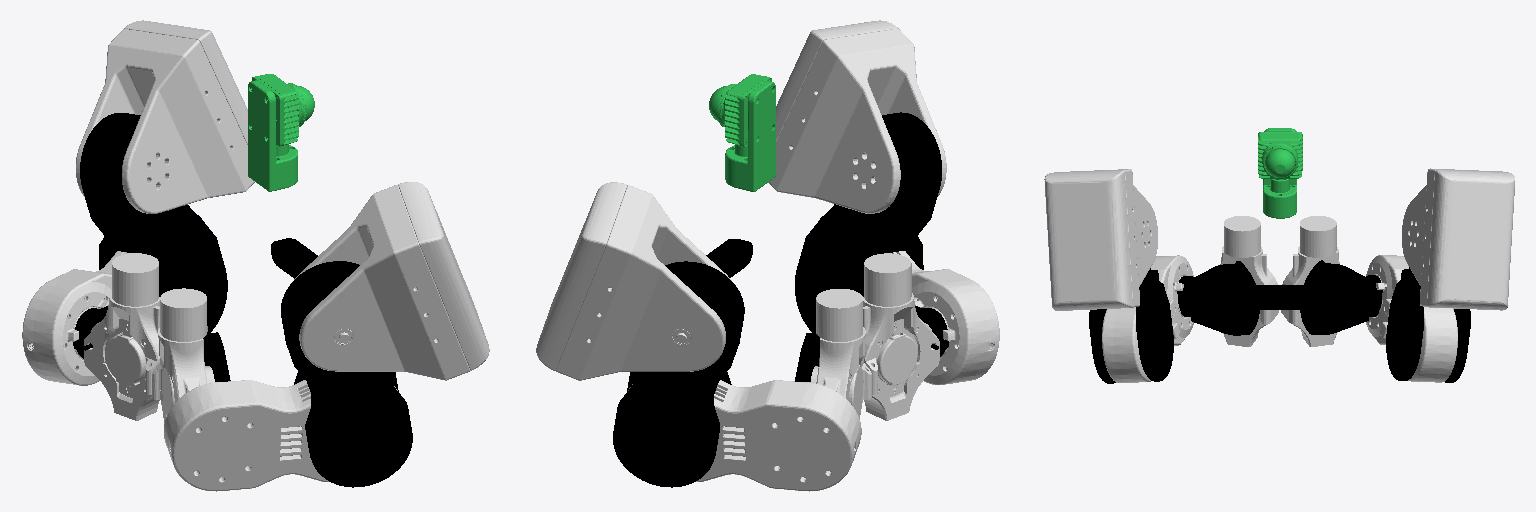
robot.urdf — YSXSZ:
<?xml version="1.0" encoding="utf-8"?>
<!-- This URDF was automatically created by SolidWorks to URDF Exporter! Originally created by Stephen Brawner (brawner@gmail.com) 
     Commit Version: 1.6.1-13-g25da24a-dirty  Build Version: 1.6.9564.31071
     For more information, please see http://wiki.ros.org/sw_urdf_exporter -->
<robot
  name="YSXSZ">
  <material name="green">
        <color rgba="0.25 0.8 0.4 1"/>
  </material>
  <material name="blue">
        <color rgba="0.1 0.4 0.8 1"/>
  </material>
  <material name="white">
        <color rgba="0.9 0.9 0.9 1"/>
  </material>
   <material name="black">
        <color rgba="0.0 0.0 0.0 1"/>
  </material>
  <link
    name="base_link">
    <inertial>
      <origin
        xyz="-0.01158260 0.00000597 0.14631222"
        rpy="0 0 0" />
      <mass
        value="6.40085835" />
      <inertia
        ixx="0.04967319"
        ixy="-0.00000038"
        ixz="-0.01935371"
        iyy="0.13479794"
        iyz="-0.00002794"
        izz="0.11744051" />
    </inertial>
    <visual>
      <origin
        xyz="0 0 0"
        rpy="0 0 0" />
      <geometry>
        <mesh
          filename="../meshes/base_link.STL" />
      </geometry>
      <material
        name="blue">
        <color
          rgba="0.1 0.4 0.8 1" />
      </material>
    </visual>
    <collision>
      <origin
        xyz="0 0 0"
        rpy="0 0 0" />
      <geometry>
        <mesh
          filename="../meshes/base_link.STL" />
      </geometry>
    </collision>
  </link>
  <link
    name="hip_yaw_l">
    <inertial>
      <origin
        xyz="-0.000221171408633571 0.000835436588466555 0.0255560756676425"
        rpy="0 0 0" />
      <mass
        value="0.924966309836361" />
      <inertia
        ixx="0.00251932"
        ixy="0.00009795"
        ixz="0.00000053"
        iyy="0.00224984"
        iyz="0.00002942"
        izz="0.00059590" />
    </inertial>
    <visual>
      <origin
        xyz="0 0 0"
        rpy="0 0 0" />
      <geometry>
        <mesh
          filename="../meshes/left1.STL" />
      </geometry>
      <material
        name="white">
        <color
          rgba="0.9 0.9 0.9 1" />
      </material>
    </visual>
    <!-- <collision>
      <origin
        xyz="0 0 0"
        rpy="0 0 0" />
      <geometry>
        <mesh
          filename="../meshes/left1.STL" />
      </geometry>
    </collision> -->
  </link>
  <joint
    name="hip_yaw_l"
    type="revolute">
    <origin
      xyz="0 0.055 0.0861"
      rpy="0 0 0" />
    <parent
      link="base_link" />
    <child
      link="hip_yaw_l" />
    <axis
      xyz="0 0 1" />
    <dynamics friction="0.01"/>
    <limit
      lower="-0.4537856055"
      upper="0"
      effort="20"
      velocity="30" />
      <!-- test10 -->
      <!-- effort="30" -->
  </joint>
  <link
    name="hip_roll_l">
    <inertial>
      <origin
        xyz="-0.0274911987178704 0.0197664676440548 -0.00512348096800992"
        rpy="0 0 0" />
      <mass
        value="0.336643013680241" />
      <inertia
        ixx="0.00051358"
        ixy="0.00018525"
        ixz="-0.00003652"
        iyy="0.00027085"
        iyz="0.00006460"
        izz="0.00055789" />
    </inertial>
    <visual>
      <origin
        xyz="0 0 0"
        rpy="0 0 0" />
      <geometry>
        <mesh
          filename="../meshes/left2.STL" />
      </geometry>
      <material
        name="black">
        <color
          rgba="0.0 0.0 0.0 1" />
      </material>
    </visual>
    <!-- <collision>
      <origin
        xyz="0 0 0"
        rpy="0 0 0" />
      <geometry>
        <mesh
          filename="../meshes/left2.STL" />
      </geometry>
    </collision> -->
  </link>
  <joint
    name="hip_roll_l"
    type="revolute">
    <origin
      xyz="0.021165 0.063656 0.0021"
      rpy="0 0 0" />
    <parent
      link="hip_yaw_l" />
    <child
      link="hip_roll_l" />
    <axis
      xyz="0.95106 0.30902 0" />
    <dynamics friction="0.07"/>
    <limit
      lower="0"
      upper="0.3714060648"
      effort="20"
      velocity="10" />
      <!-- effort="60" -->
  </joint>
  <link
    name="hip_pitch_l">
    <inertial>
      <origin
        xyz="0.07571300 0.02157796 0.00060929"
        rpy="0 0 0" />
      <mass
        value="1.08615270" />
      <inertia
        ixx="0.00190228"
        ixy="-0.00195647"
        ixz="0.00007908"
        iyy="0.00732076"
        iyz="-0.00013307"
        izz="0.00717915" />
    </inertial>
    <visual>
      <origin
        xyz="0 0 0"
        rpy="0 0 0" />
      <geometry>
        <mesh
          filename="../meshes/left3.STL" />
      </geometry>
      <material
        name="white">
        <color
          rgba="0.9 0.9 0.9 1" />
      </material>
    </visual>
    <!-- <collision>
      <origin
        xyz="0 0 0"
        rpy="0 0 0" />
      <geometry>
        <mesh
          filename="../meshes/left3.STL" />
      </geometry>
    </collision> -->
  </link>
  <joint
    name="hip_pitch_l"
    type="revolute">
    <origin
      xyz="-0.040106 0.045768 -0.010506"
      rpy="0 0 0" />
    <parent
      link="hip_roll_l" />
    <child
      link="hip_pitch_l" />
    <axis
      xyz="-0.3037 0.9347 -0.18464" />
    <dynamics friction="0.03"/>
    <limit
      lower="0"
      upper="3.094395102"
      effort="20"
      velocity="30" />
      <!-- effort="30" -->
  </joint>
  <link
    name="knee_pitch_l">
    <inertial>
      <origin
        xyz="-0.01759815 0.00753399 0.08328469"
        rpy="0 0 0" />
      <mass
        value="0.96552306" />
      <inertia
        ixx="0.00591962"
        ixy="0.00003208"
        ixz="0.00106872"
        iyy="0.00633182"
        iyz="-0.00059524"
        izz="0.00141719" />
    </inertial>
    <visual>
      <origin
        xyz="0 0 0"
        rpy="0 0 0" />
      <geometry>
        <mesh
          filename="../meshes/left4.STL" />
      </geometry>
      <material
        name="black">
        <color
          rgba="0.0 0.0 0.0 1" />
      </material>
    </visual>
    <!-- <collision>
      <origin
        xyz="0 0 0"
        rpy="0 0 0" />
      <geometry>
        <mesh
          filename="../meshes/left4.STL" />
      </geometry>
    </collision> -->
  </link>
  <joint
    name="knee_pitch_l"
    type="revolute">
    <origin
      xyz="0.15027 0.048825 0"
      rpy="0 0 0" />
    <parent
      link="hip_pitch_l" />
    <child
      link="knee_pitch_l" />
    <axis
      xyz="0.3037 -0.9347 0.18464" />
    <dynamics friction="0.01"/>
    <limit
      lower="-3.490658504"
      upper="0"
      effort="20"
      velocity="30" />
      <!-- effort="30" -->
  </joint>
  <link
    name="ankle_pitch_l">
    <inertial>
      <origin
        xyz="0.06647366 0.02592624 0.02560674"
        rpy="0 0 0" />
      <mass
        value="1.15884521" />
      <inertia
        ixx="0.0041618"
        ixy="-0.00065593"
        ixz="-0.00005476"
        iyy="0.00566982"
        iyz="-0.00035079"
        izz="0.00439805" />
    </inertial>
    <visual>
      <origin
        xyz="0 0 0"
        rpy="0 0 0" />
      <geometry>
        <mesh
          filename="../meshes/left5.STL" />
      </geometry>
      <material
        name="white">
        <color
          rgba="0.9 0.9 0.9 1" />
      </material>
    </visual>
    <collision>
      <origin
        xyz="0 0 0"
        rpy="0 0 0" />
      <geometry>
        <mesh
          filename="../meshes/left5.STL" />
      </geometry>
    </collision>
  </link>
  <joint
    name="ankle_pitch_l"
    type="revolute">
    <origin
      xyz="-0.034971 0.018845 0.15292"
      rpy="0 0 0" />
    <parent
      link="knee_pitch_l" />
    <child
      link="ankle_pitch_l" />
    <axis
      xyz="-0.3037 0.9347 -0.18464" />
    <dynamics friction="0.01"/>
    <limit
      lower="-2.617993878"
      upper="0"
      effort="20"
      velocity="30" />
      <!-- effort="30" -->
  </joint>
  <link
    name="hip_yaw_r">
    <inertial>
      <origin
        xyz="0.00091922 -0.00120453 0.02555592"
        rpy="0 0 0" />
      <mass
        value="0.92496577" />
      <inertia
        ixx="0.00251891"
        ixy="-0.00009831"
        ixz="0.00002528"
        iyy="0.00225164"
        iyz="-0.00003738"
        izz="0.00059728" />
    </inertial>
    <visual>
      <origin
        xyz="0 0 0"
        rpy="0 0 0" />
      <geometry>
        <mesh
          filename="../meshes/right1.STL" />
      </geometry>
      <material
        name="white">
        <color
          rgba="0.9 0.9 0.9 1" />
      </material>
    </visual>
    <!-- <collision>
      <origin
        xyz="0 0 0"
        rpy="0 0 0" />
      <geometry>
        <mesh
          filename="../meshes/right1.STL" />
      </geometry>
    </collision> -->
  </link>
  <joint
    name="hip_yaw_r"
    type="revolute">
    <origin
      xyz="0 -0.055 0.0861"
      rpy="0 0 0" />
    <parent
      link="base_link" />
    <child
      link="hip_yaw_r" />
    <axis
      xyz="0 0 1" />
    <limit
      lower="0"
      upper="0.4537856055"
      effort="20"
      velocity="30" />
      <!-- effort="30" -->
  </joint>
  <link
    name="hip_roll_r">
    <inertial>
      <origin
        xyz="-0.0274911769591385 -0.0197664945674842 -0.00512347401957491"
        rpy="0 0 0" />
      <mass
        value="0.33664269" />
      <inertia
        ixx="0.00051357"
        ixy="-0.00018525"
        ixz="-0.00003652"
        iyy="0.00027085"
        iyz="-0.00006460"
        izz="0.00055789" />
    </inertial>
    <visual>
      <origin
        xyz="0 0 0"
        rpy="0 0 0" />
      <geometry>
        <mesh
          filename="../meshes/right2.STL" />
      </geometry>
      <material
        name="black">
        <color
          rgba="0.0 0.0 0.0 1" />
      </material>
    </visual>
    <!-- <collision>
      <origin
        xyz="0 0 0"
        rpy="0 0 0" />
      <geometry>
        <mesh
          filename="../meshes/right2.STL" />
      </geometry>
    </collision> -->
  </link>
  <joint
    name="hip_roll_r"
    type="revolute">
    <origin
      xyz="0.023067 -0.064274 0.0021"
      rpy="0 0 0" />
    <parent
      link="hip_yaw_r" />
    <child
      link="hip_roll_r" />
    <axis
      xyz="0.95106 -0.30902 0" />
    <dynamics friction="0.07"/>
    <limit
      lower="-0.3714060648"
      upper="0"
      effort="20"
      velocity="10" />
      <!-- effort="60" -->
  </joint>
  <link
    name="hip_pitch_r">
    <inertial>
      <origin
        xyz="0.075622041595536 -0.0218579165663489 0.000551361994713465"
        rpy="0 0 0" />
      <mass
        value="1.08615270" />
      <inertia
        ixx="0.00190228"
        ixy="0.00195646"
        ixz="0.00007916"
        iyy="0.00732078"
        iyz="0.00013303"
        izz="0.00717914" />
    </inertial>
    <visual>
      <origin
        xyz="0 0 0"
        rpy="0 0 0" />
      <geometry>
        <mesh
          filename="../meshes/right3.STL" />
      </geometry>
      <material
        name="white">
        <color
          rgba="0.9 0.9 0.9 1" />
      </material>
    </visual>
    <!-- <collision>
      <origin
        xyz="0 0 0"
        rpy="0 0 0" />
      <geometry>
        <mesh
          filename="../meshes/right3.STL" />
      </geometry>
    </collision> -->
  </link>
  <joint
    name="hip_pitch_r"
    type="revolute">
    <origin
      xyz="-0.040015 -0.045488 -0.01045"
      rpy="0 0 0" />
    <parent
      link="hip_roll_r" />
    <child
      link="hip_pitch_r" />
    <axis
      xyz="-0.3037 -0.9347 -0.18464" />
    <dynamics friction="0.03"/>
    <limit
      lower="-3.104395102"
      upper="0"
      effort="20"
      velocity="30" />
      <!-- effort="30" -->
  </joint>
  <link
    name="knee_pitch_r">
    <inertial>
      <origin
        xyz="-0.0176878976892493 -0.00781487379967322 0.0832294573868453"
        rpy="0 0 0" />
      <mass
        value="0.96552304" />
      <inertia
        ixx="0.00591971"
        ixy="-0.00003206"
        ixz="0.00106860"
        iyy="0.00633182"
        iyz="0.00059529"
        izz="0.00141715" />
    </inertial>
    <visual>
      <origin
        xyz="0 0 0"
        rpy="0 0 0" />
      <geometry>
        <mesh
          filename="../meshes/right4.STL" />
      </geometry>
      <material
        name="black">
        <color
          rgba="0.0 0.0 0.0 1" />
      </material>
    </visual>
    <!-- <collision>
      <origin
        xyz="0 0 0"
        rpy="0 0 0" />
      <geometry>
        <mesh
          filename="../meshes/right4.STL" />
      </geometry>
    </collision> -->
  </link>
  <joint
    name="knee_pitch_r"
    type="revolute">
    <origin
      xyz="0.15027 -0.048825 0"
      rpy="0 0 0" />
    <parent
      link="hip_pitch_r" />
    <child
      link="knee_pitch_r" />
    <axis
      xyz="0.3037 0.9347 0.18464" />
    <dynamics friction="0.01"/>
    <limit
      lower="0"
      upper="3.490658504"
      effort="20"
      velocity="30" />
      <!-- effort="30" -->
  </joint>
  <link
    name="ankle_pitch_r">
    <inertial>
      <origin
        xyz="0.06647359 -0.02592625 0.02560691"
        rpy="0 0 0" />
      <mass
        value="1.15884521" />
      <inertia
        ixx="0.0041618"
        ixy="0.00065593"
        ixz="-0.00005477"
        iyy="0.00566982"
        iyz="0.0003508"
        izz="0.00439804" />
    </inertial>
    <visual>
      <origin
        xyz="0 0 0"
        rpy="0 0 0" />
      <geometry>
        <mesh
          filename="../meshes/right5.STL" />
      </geometry>
      <material
        name="white">
        <color
          rgba="0.9 0.9 0.9 1" />
      </material>
    </visual>
    <collision>
      <origin
        xyz="0 0 0"
        rpy="0 0 0" />
      <geometry>
        <mesh
          filename="../meshes/right5.STL" />
      </geometry>
    </collision>
  </link>
  <joint
    name="ankle_pitch_r"
    type="revolute">
    <origin
      xyz="-0.035063 -0.019126 0.15287"
      rpy="0 0 0" />
    <parent
      link="knee_pitch_r" />
    <child
      link="ankle_pitch_r" />
    <axis
      xyz="-0.3037 -0.9347 -0.18464" />
    <dynamics friction="0.01"/>
    <limit
      lower="0"
      upper="2.617993878"
      effort="20"
      velocity="30" />
      <!-- effort="30" -->
  </joint>
  <link
    name="lidar">
    <inertial>
      <origin
        xyz="0.0046418382681748 5.43438209894845E-06 0.0595974876053534"
        rpy="0 0 0" />
      <mass
        value="0.308400019417121" />
      <inertia
        ixx="0.00020460"
        ixy="0.00000003"
        ixz="-0.00001318"
        iyy="0.00022004"
        iyz="0.0"
        izz="0.00015518" />
    </inertial>
    <visual>
      <origin
        xyz="0 0 0"
        rpy="0 0 0" />
      <geometry>
        <mesh
          filename="../meshes/lidar.STL" />
      </geometry>
      <material
        name="green">
        <color
          rgba="0.25 0.8 0.4 1" />
      </material>
    </visual>
    <!-- <collision>
      <origin
        xyz="0 0 0"
        rpy="0 0 0" />
      <geometry>
        <mesh
          filename="../meshes/lidar.STL" />
      </geometry>
    </collision> -->
  </link>
  <joint
    name="lidar"
    type="fixed">
    <origin
      xyz="0.154 0 0.294"
      rpy="0 0 0" />
    <parent
      link="base_link" />
    <child
      link="lidar" />
    <axis
      xyz="0 0 0" />
  </joint>
  <!-- <link
    name="realsense"> -->
  <link
    name="imu_in_torso">
    <inertial>
      <origin
        xyz="-0.01250113 0.00004432 0.00000228"
        rpy="0 0 0" />
      <mass
        value="0.11729996" />
      <inertia
        ixx="0.00014633"
        ixy="-0.00000007"
        ixz="0.0"
        iyy="0.00001399"
        iyz="0.00000001"
        izz="0.00014382" />
    </inertial>
    <visual>
      <origin
        xyz="0 0 0"
        rpy="0 0 0" />
      <geometry>
        <mesh
          filename="../meshes/realsense.STL" />
      </geometry>
      <material
        name="black">
        <color
          rgba="0.0 0.0 0.0 1" />
      </material>
    </visual>
    <!-- <collision>
      <origin
        xyz="0 0 0"
        rpy="0 0 0" />
      <geometry>
        <mesh
          filename="../meshes/realsense.STL" />
      </geometry>
    </collision> -->
  </link>
  <!-- <joint
    name="realsense"
    type="fixed"> -->
  <joint
    name="imu_in_torso_joint" type="fixed" dont_collapse="true">
    <origin
      xyz="0.207 0 0.17525"
      rpy="0 0 0" />
    <parent
      link="base_link" />
    <!-- <child
      link="realsense" /> -->
    <child
      link="imu_in_torso" />
    <axis
      xyz="0 0 0" />
  </joint>
</robot>

--- Facts derived from the render (not from the file) ---
The picture shows the robot from 3 angles, left to right: view 1: azimuth 30°, elevation 25°; view 2: azimuth 150°, elevation 25°; view 3: azimuth 270°, elevation 25°; orthographic projection.
Model YSXSZ with 13 links and 12 joints (10 revolute, 2 fixed), rooted at base_link, posed every joint at zero.
Visible links, largest first — view 1: ankle_pitch_r, ankle_pitch_l, knee_pitch_r, hip_pitch_r, knee_pitch_l, hip_yaw_l, hip_pitch_l, lidar, hip_yaw_r, imu_in_torso, hip_roll_r, hip_roll_l; view 2: ankle_pitch_l, ankle_pitch_r, knee_pitch_l, hip_pitch_l, knee_pitch_r, hip_yaw_r, hip_pitch_r, lidar, hip_yaw_l, imu_in_torso, hip_roll_l, hip_roll_r; view 3: ankle_pitch_r, ankle_pitch_l, hip_pitch_r, hip_pitch_l, knee_pitch_r, knee_pitch_l, hip_roll_r, hip_roll_l, lidar, hip_yaw_r, hip_yaw_l, imu_in_torso.
Boxes of the visible links, x1,y1,x2,y2 form: ankle_pitch_r: (294,182,489,380); ankle_pitch_l: (76,20,254,213); knee_pitch_r: (281,261,412,487); hip_pitch_r: (164,380,397,491); knee_pitch_l: (80,113,227,332); hip_yaw_l: (84,253,159,420); hip_pitch_l: (22,251,129,385); lidar: (248,74,314,191); hip_yaw_r: (152,288,214,423); imu_in_torso: (271,238,317,278); hip_roll_r: (203,332,230,381); hip_roll_l: (73,292,162,358); ankle_pitch_l: (536,182,731,380); ankle_pitch_r: (768,20,946,213); knee_pitch_l: (613,261,744,487); hip_pitch_l: (628,380,861,491); knee_pitch_r: (795,112,941,332); hip_yaw_r: (863,253,939,420); hip_pitch_r: (892,251,999,384); lidar: (709,74,775,191); hip_yaw_l: (810,289,871,418); imu_in_torso: (706,239,752,277); hip_roll_l: (795,333,819,381); hip_roll_r: (860,291,948,356); ankle_pitch_r: (1044,169,1157,310); ankle_pitch_l: (1402,168,1514,310); hip_pitch_r: (1102,255,1193,382); hip_pitch_l: (1365,255,1457,382); knee_pitch_r: (1089,268,1173,383); knee_pitch_l: (1386,267,1470,382); hip_roll_r: (1177,261,1259,335); hip_roll_l: (1300,260,1382,334); lidar: (1258,128,1302,218); hip_yaw_r: (1220,216,1278,346); hip_yaw_l: (1281,216,1339,346); imu_in_torso: (1237,285,1323,309).
Size in the robot's own frame: 0.3598 by 0.6819 by 0.4054 metres.
Meshes: 13 distinct files referenced, 12 mesh visuals loaded (12 binary STL); not drawn: 1 (reference not matched to a file when rendering).
